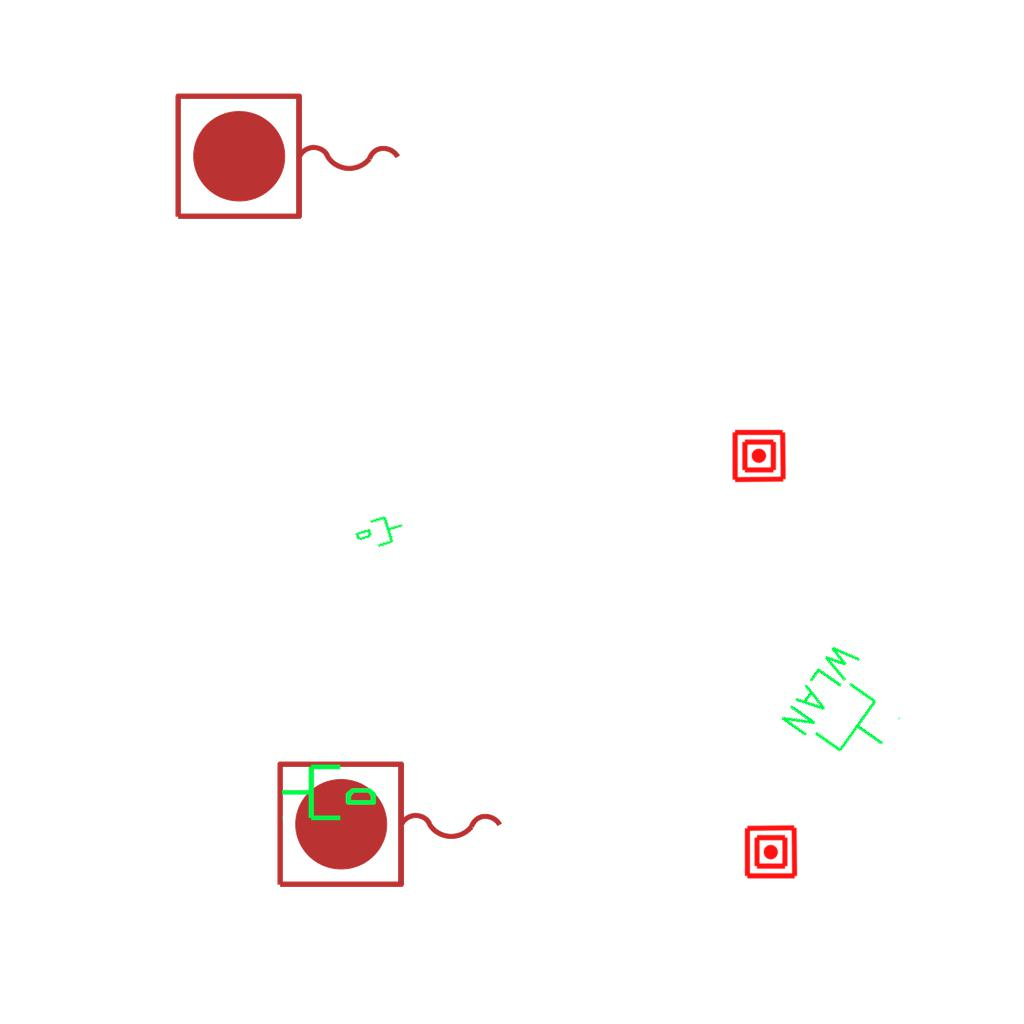Datenanschluss_einfach: (279, 756, 379, 825), (351, 509, 409, 557)
NAM-Nichtautomatischer_Melder: (743, 824, 799, 880), (731, 428, 787, 484)
WLAN: (775, 634, 921, 781)
Zugtaster: (167, 86, 411, 230), (269, 754, 513, 898)
